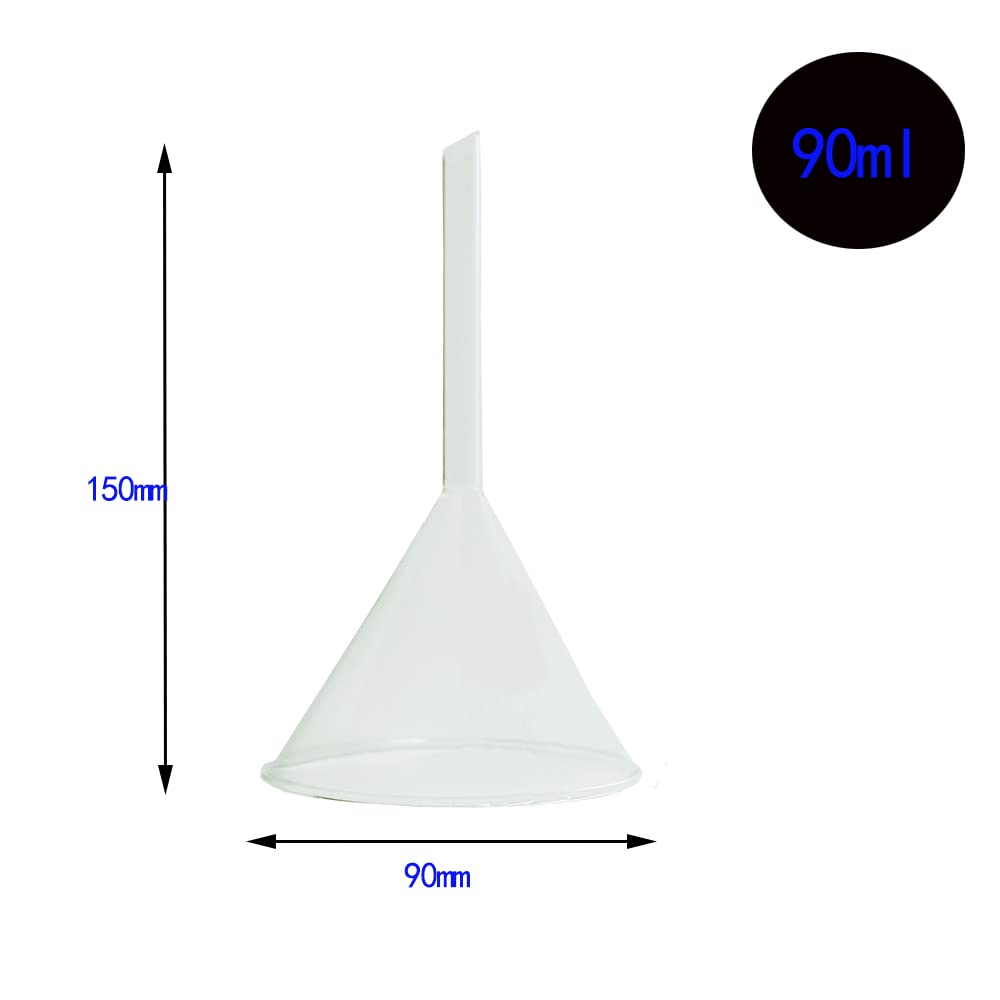15: (88, 476, 117, 501)
90mm: (405, 863, 470, 887)
